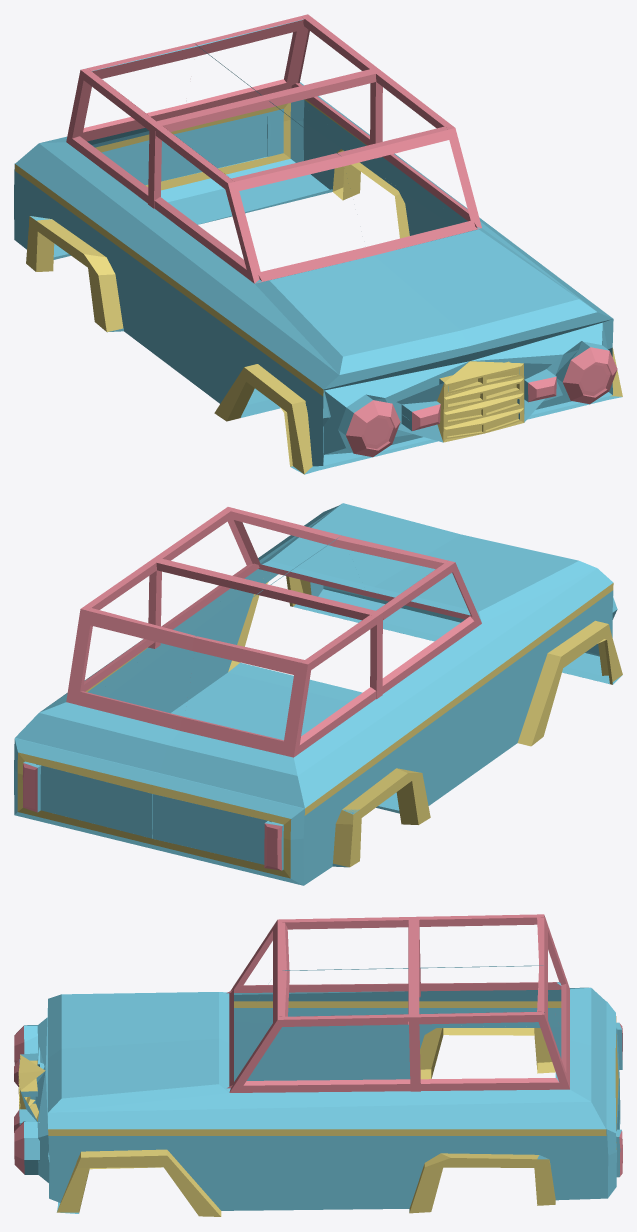
File: carbodybronco.fbx
The picture shows the model from 3 angles, top to bottom: view 1: azimuth 30°, elevation 25°; view 2: azimuth 150°, elevation 25°; view 3: azimuth 270°, elevation 25°; orthographic projection. The views are drawn at different scales.
Parts seen in each view (by area): view 1: carbody; view 2: carbody; view 3: carbody.
Part boxes in pixels (x1,y1,x2,y2): carbody: [14, 14, 622, 474]; carbody: [14, 503, 622, 885]; carbody: [14, 914, 622, 1216].
Bounding box in the file's own units: 244 × 145 × 439.
